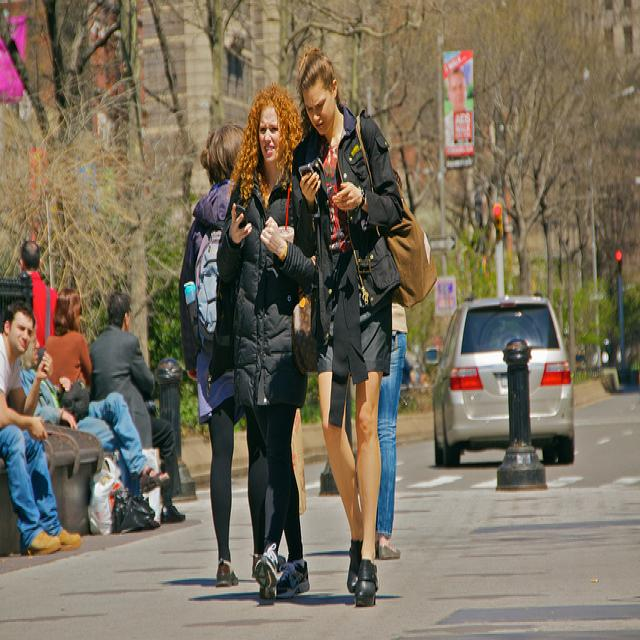Vehicle: (426, 296, 574, 468)
